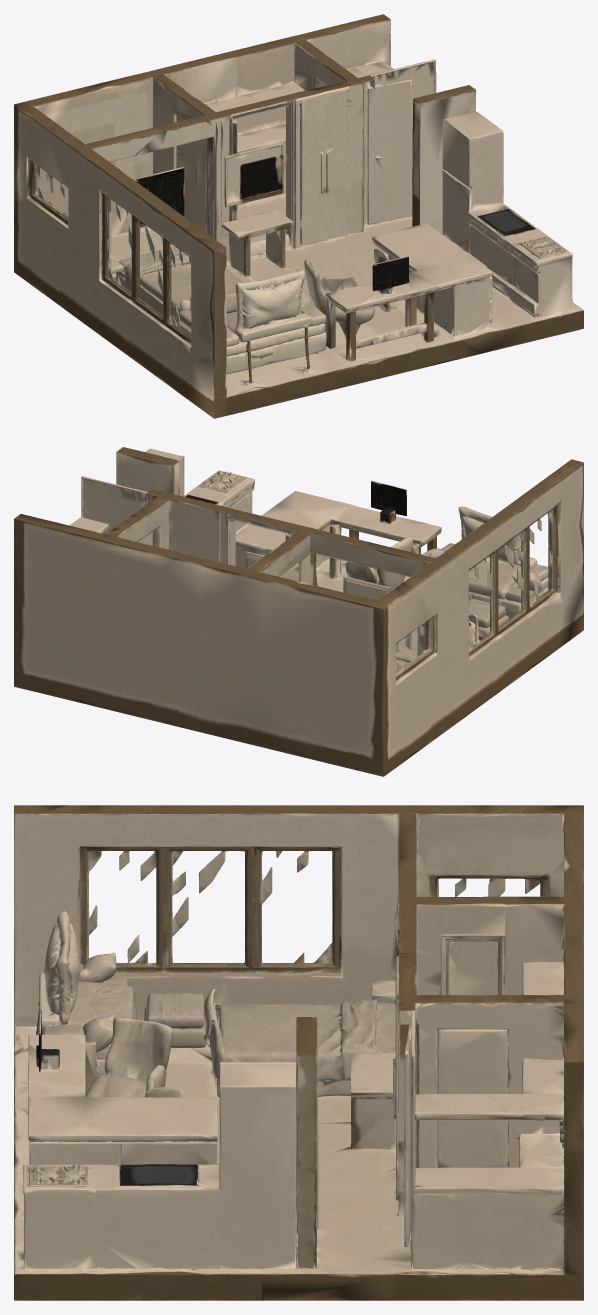
The model's file is floor_plan_6.glb.
3 views of the same model, one above another, from view 1: azimuth 30°, elevation 25°; view 2: azimuth 150°, elevation 25°; view 3: azimuth 270°, elevation 25° (orthographic). The views are drawn at different scales.
Bounding box in the file's own units: 1.9 × 0.8285 × 1.79.
1 material, 1 textured.
